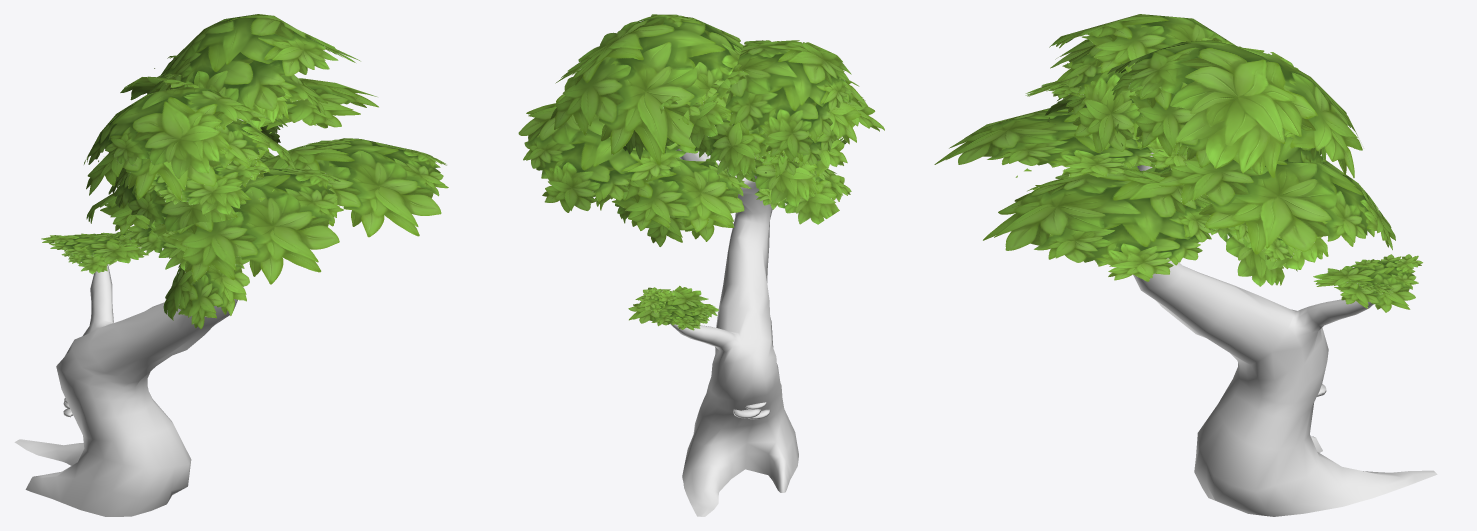
File: Tree_01.fbx
3 views of the same model, side by side, from view 1: azimuth 30°, elevation 25°; view 2: azimuth 150°, elevation 25°; view 3: azimuth 270°, elevation 25° (orthographic). The views are drawn at different scales.
Parts seen in each view (by area): view 1: SM_Tree; view 2: SM_Tree; view 3: SM_Tree.
Boxes of the visible parts, <box> form: SM_Tree: <box>14,14,448,516</box>; SM_Tree: <box>518,14,884,516</box>; SM_Tree: <box>934,14,1437,516</box>.
Size of the model in its own units: 256 by 310 by 304.
